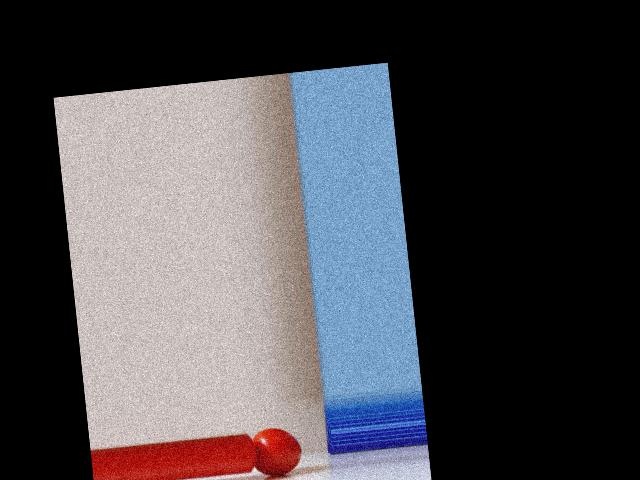tomato: (251, 425, 303, 478)
